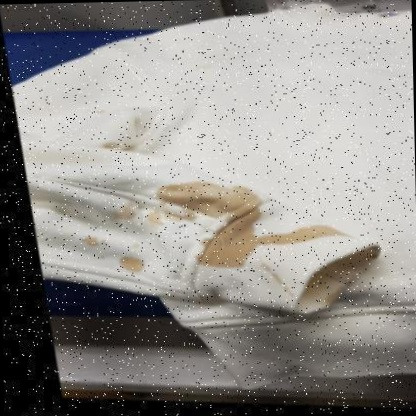coffee: (161, 184, 252, 215), (250, 227, 324, 246), (210, 228, 251, 262), (121, 256, 143, 273)
